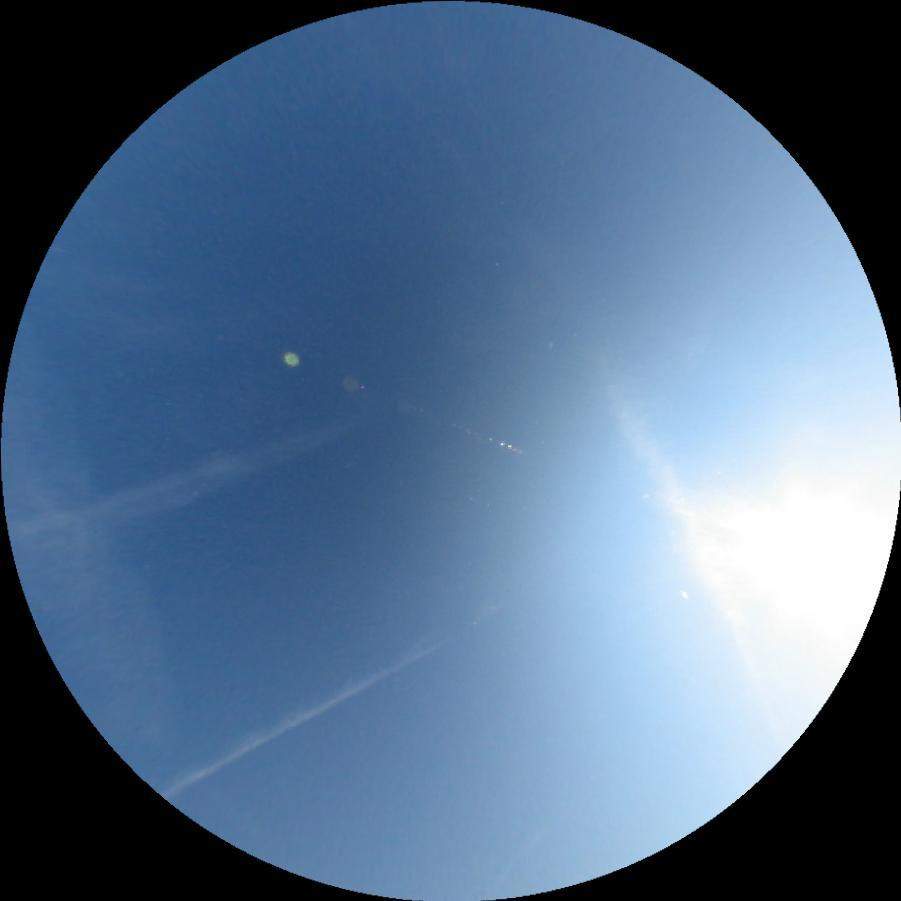contrail veryold: (584, 346, 810, 741), (159, 588, 515, 802), (7, 410, 361, 558)
contrail young: (48, 244, 67, 252)
sun: (714, 484, 894, 632)
